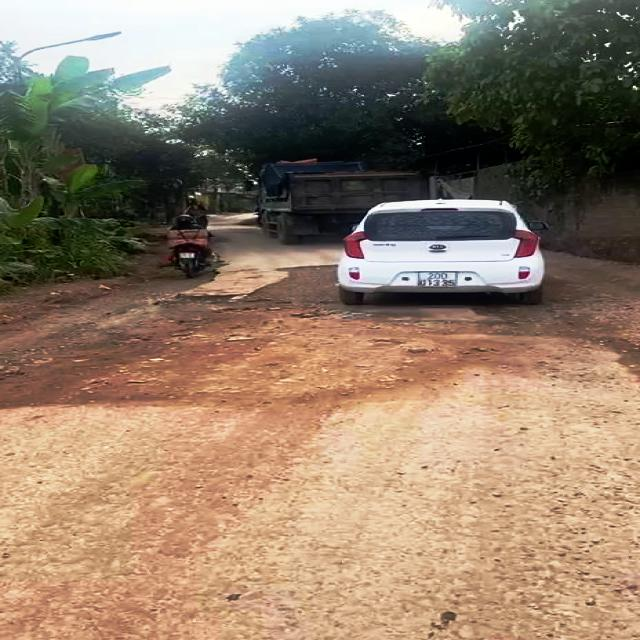pothole: (237, 262, 637, 346), (0, 289, 259, 401)
